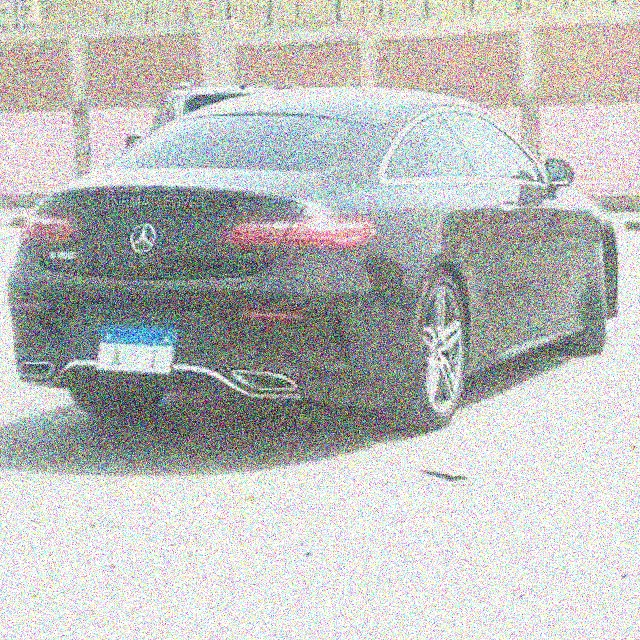License Plate: (92, 318, 180, 379)
